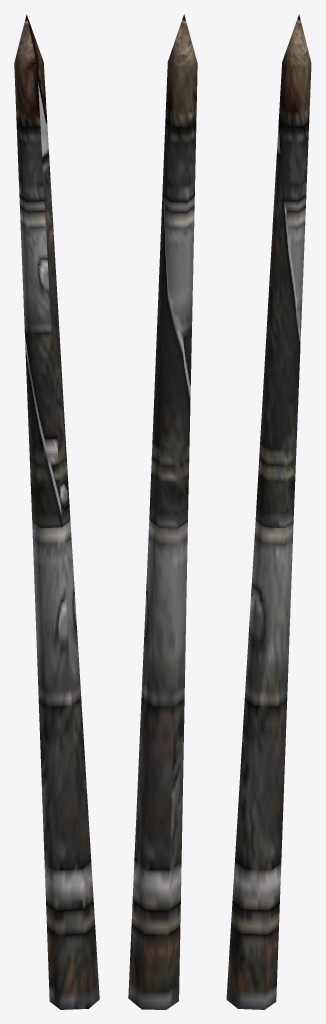
File: eqp_music_flute_droopy_l2.fbx
3 views of the same model, side by side, from view 1: azimuth 90°, elevation 25°; view 2: azimuth 210°, elevation 25°; view 3: azimuth 270°, elevation 25° (orthographic).
Parts seen in each view (by area): view 1: mesh_node; view 2: mesh_node; view 3: mesh_node.
Boxes of the visible parts, bbox=[...] form: mesh_node: bbox=[14, 14, 99, 1009]; mesh_node: bbox=[128, 14, 197, 1009]; mesh_node: bbox=[226, 14, 311, 1009].
Bounding box in the file's own units: 0.03 × 0.7834 × 0.0613.
1 material, 1 textured.
